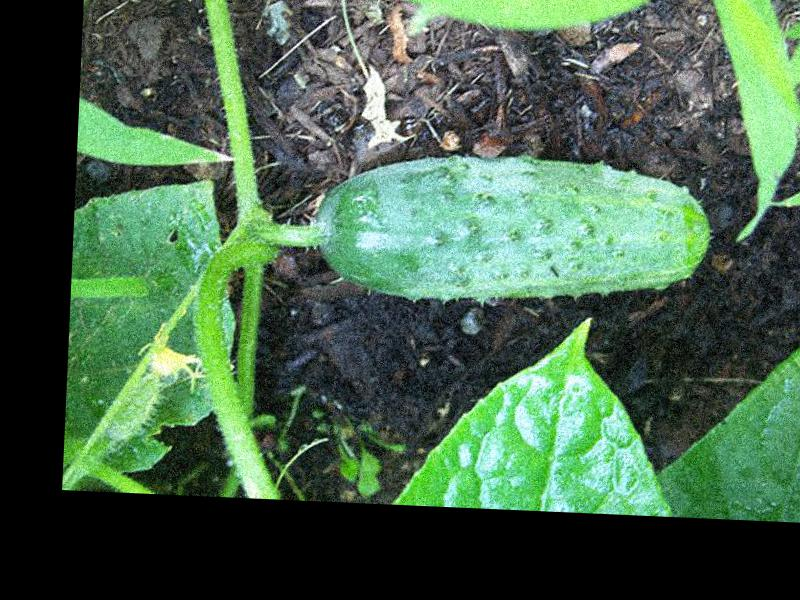Cucumber: (313, 146, 717, 311)
